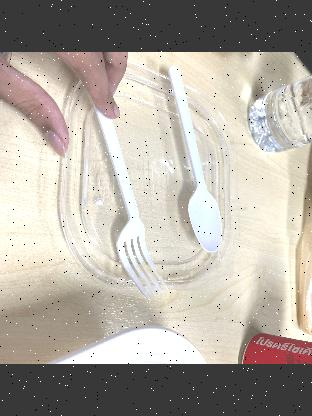Others: (76, 86, 178, 314), (152, 60, 239, 264)
